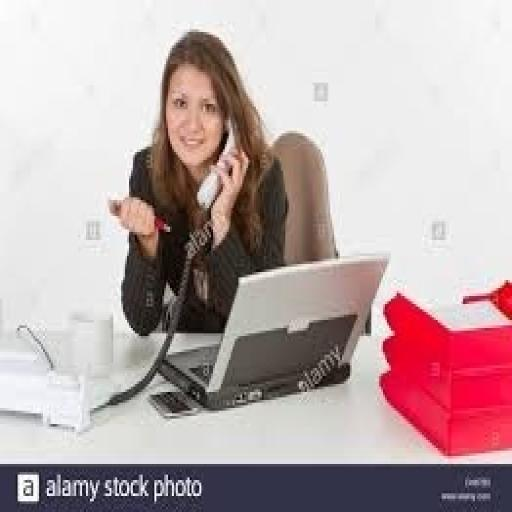calling: (106, 27, 291, 336)
